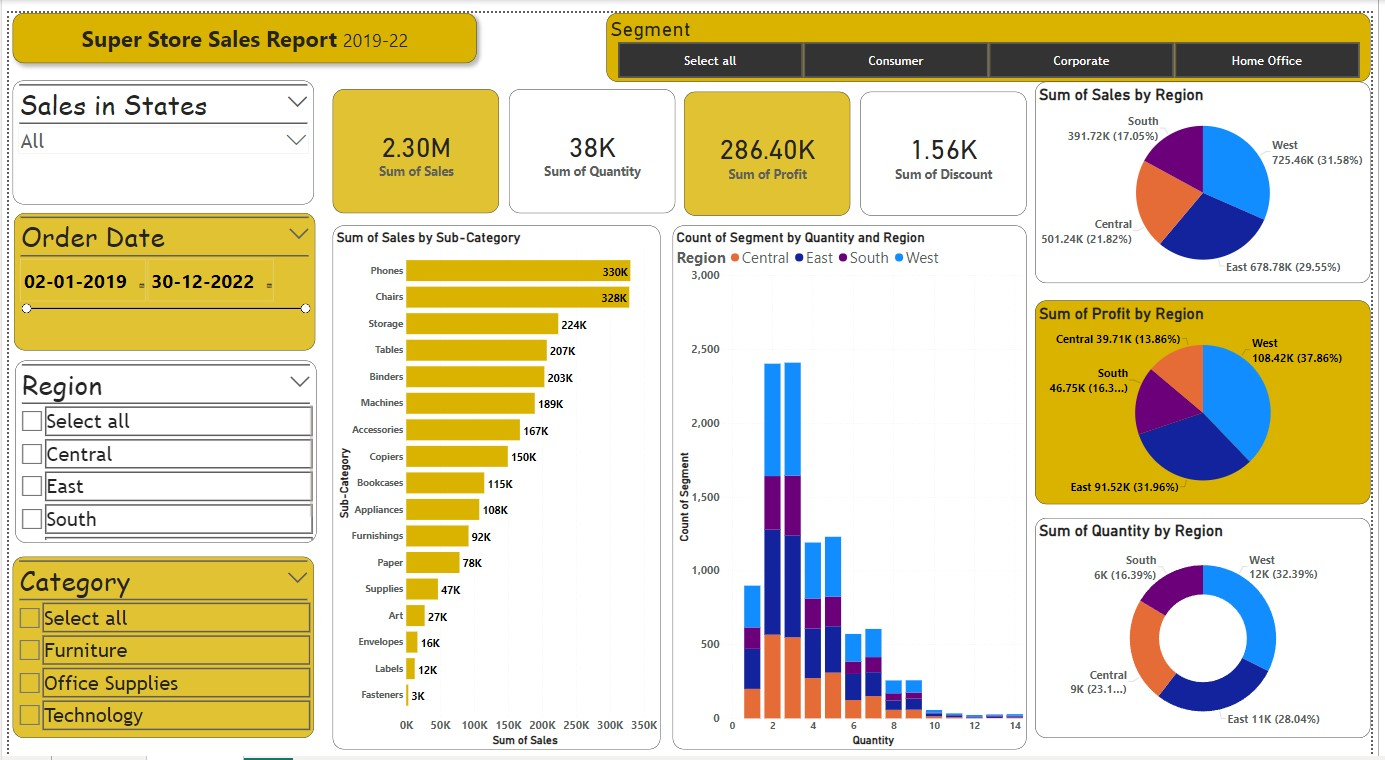

The dashboard page shown, as its layout file describes it:
{"tool":"powerbi","page":{"name":"Page 2","canvas":[3630,2005],"ordinal":1},"visuals":[{"type":"textbox","box":[10,0,1236.7,133.3],"z":0},{"type":"slicer","fields":{"Values":["Orders2.State"]},"box":[10,180,803.3,330],"z":1000},{"type":"slicer","fields":{"Values":["Orders2.Order Date"]},"box":[13.3,533.3,803.3,366.7],"z":2000},{"type":"slicer","fields":{"Values":["Orders2.Category"]},"box":[10,1450,803.3,483.3],"z":3000},{"type":"card","fields":{"Values":["Sum(Orders2.Sales)"]},"box":[863.3,203.3,443.3,330],"z":4000},{"type":"card","fields":{"Values":["Sum(Orders2.Quantity)"]},"box":[1333.3,203.3,443.3,330],"z":5000},{"type":"card","fields":{"Values":["Sum(Orders2.Profit)"]},"box":[1800,210,443.3,330],"z":6000},{"type":"slicer","fields":{"Values":["Orders2.Region"]},"box":[16.7,926.7,803.3,486.7],"z":7000},{"type":"barChart","fields":{"Category":["Orders2.Sub-Category"],"Y":["Sum(Orders2.Sales)"]},"box":[863.3,566.7,873.3,1396.7],"z":8000},{"type":"pieChart","fields":{"Category":["Orders2.Region"],"Y":["Sum(Orders2.Sales)"]},"box":[2736.7,183.3,893.3,536.7],"z":9000},{"type":"pieChart","fields":{"Category":["Orders2.Region"],"Y":["Sum(Orders2.Profit)"]},"box":[2736.7,766.7,893.3,543.3],"z":10000},{"type":"donutChart","fields":{"Y":["Sum(Orders2.Quantity)"],"Category":["Orders2.Region"]},"box":[2736.7,1346.7,893.3,586.7],"z":11000},{"type":"lineStackedColumnComboChart","fields":{"Series":["Orders2.Region"],"Y":["CountNonNull(Orders2.Segment)"],"Category":["Orders2.Quantity"]},"box":[1770,566.7,943.3,1396.7],"z":12000},{"type":"card","fields":{"Values":["Sum(Orders2.Discount)"]},"box":[2270,210,443.3,330],"z":13000},{"type":"slicer","title":"Segment","fields":{"Values":["Orders2.Segment"]},"box":[1593.3,0,2036.7,183.3],"z":14000}]}

Visuals, with their boxes in screenshot pixels (x1, y1, x2, y2), scaled from the page's 3630x2005 canvas onto the 1385x760 screenshot:
textbox: {"left": 4, "top": 0, "right": 476, "bottom": 51}
slicer - Orders2.State: {"left": 4, "top": 68, "right": 310, "bottom": 193}
slicer - Orders2.Order Date: {"left": 5, "top": 202, "right": 312, "bottom": 341}
slicer - Orders2.Category: {"left": 4, "top": 550, "right": 310, "bottom": 733}
card - Sum(Orders2.Sales): {"left": 329, "top": 77, "right": 499, "bottom": 202}
card - Sum(Orders2.Quantity): {"left": 509, "top": 77, "right": 678, "bottom": 202}
card - Sum(Orders2.Profit): {"left": 687, "top": 80, "right": 856, "bottom": 205}
slicer - Orders2.Region: {"left": 6, "top": 351, "right": 313, "bottom": 536}
barChart - Orders2.Sub-Category x Sum(Orders2.Sales): {"left": 329, "top": 215, "right": 663, "bottom": 744}
pieChart - Orders2.Region x Sum(Orders2.Sales): {"left": 1044, "top": 69, "right": 1384, "bottom": 273}
pieChart - Orders2.Region x Sum(Orders2.Profit): {"left": 1044, "top": 291, "right": 1384, "bottom": 497}
donutChart - Sum(Orders2.Quantity) x Orders2.Region: {"left": 1044, "top": 510, "right": 1384, "bottom": 733}
lineStackedColumnComboChart - Orders2.Region x CountNonNull(Orders2.Segment): {"left": 675, "top": 215, "right": 1035, "bottom": 744}
card - Sum(Orders2.Discount): {"left": 866, "top": 80, "right": 1035, "bottom": 205}
"Segment" slicer: {"left": 608, "top": 0, "right": 1384, "bottom": 69}
